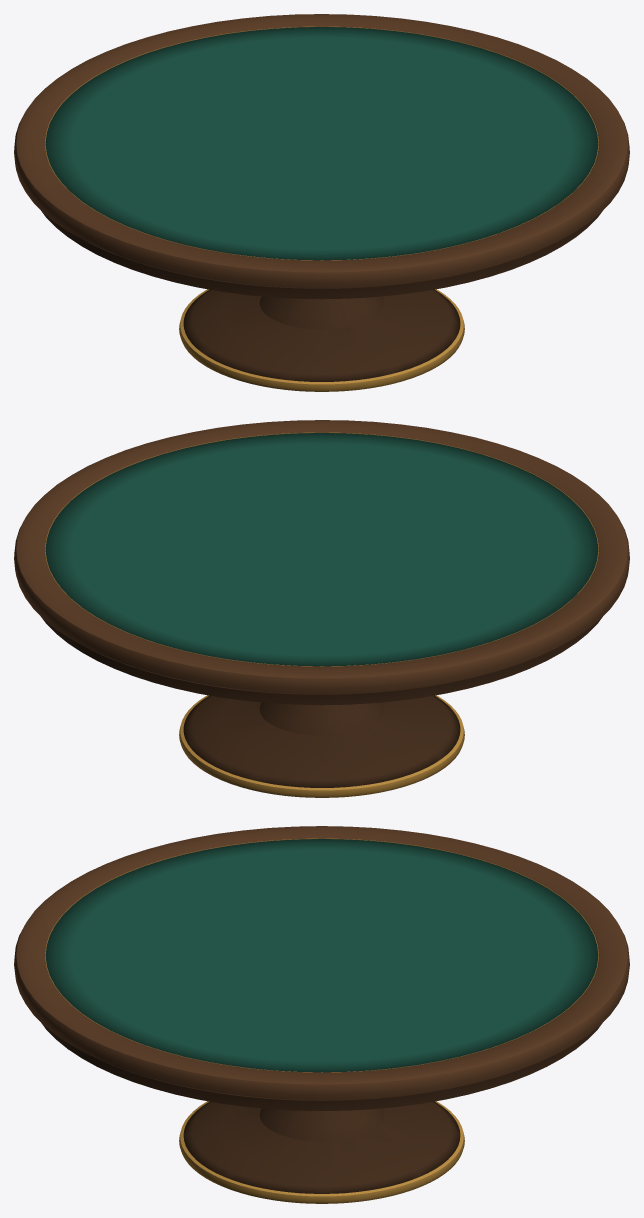
Rendered from table-round.glb.
The picture shows the model from 3 angles, top to bottom: view 1: azimuth 30°, elevation 25°; view 2: azimuth 150°, elevation 25°; view 3: azimuth 270°, elevation 25°; orthographic projection.
Visible parts, largest first — view 1: Felt, Frame, Trim; view 2: Felt, Frame, Trim; view 3: Felt, Frame, Trim.
Part boxes in pixels (box(x1,y1,x2,y2)): Felt: box(45, 27, 598, 260); Frame: box(14, 14, 629, 381); Trim: box(45, 26, 598, 391); Felt: box(45, 433, 598, 666); Frame: box(14, 420, 629, 787); Trim: box(45, 432, 598, 797); Felt: box(45, 839, 598, 1072); Frame: box(14, 826, 629, 1193); Trim: box(45, 838, 598, 1203).
Bounding box in the file's own units: 2.22 × 0.7539 × 2.22.
Materials: 3 (1 with a texture image).
